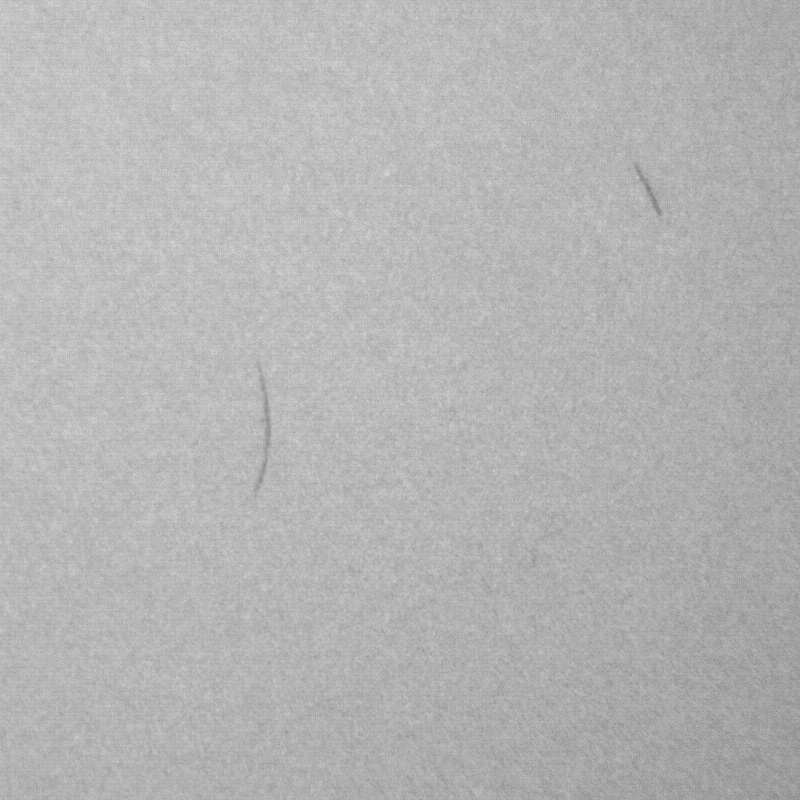defect: (257, 362, 273, 498), (637, 160, 667, 223)
